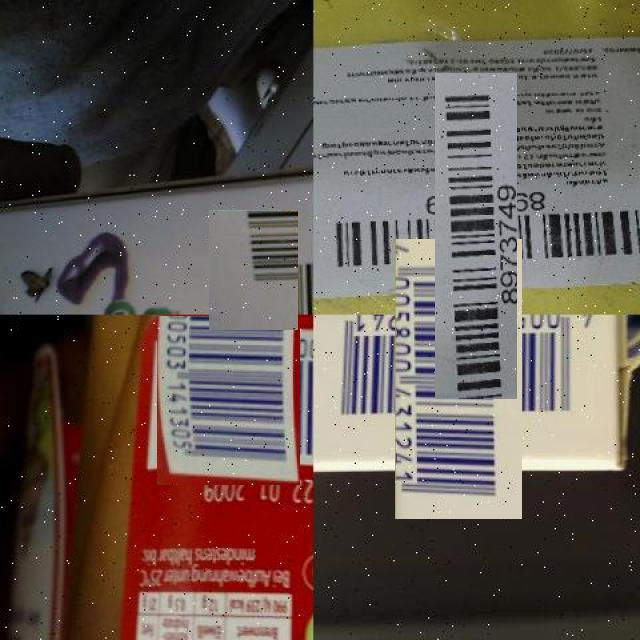Barcode: (374, 134, 579, 338), (357, 276, 560, 480), (150, 322, 307, 478), (201, 218, 306, 322)
